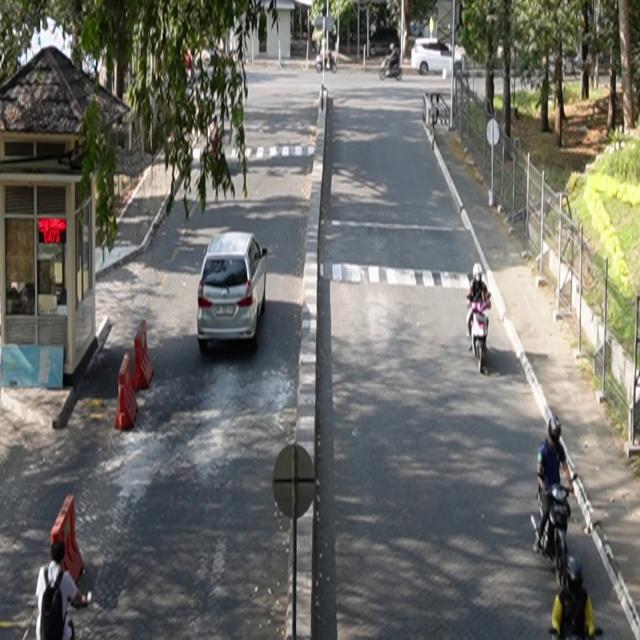car: (197, 231, 269, 354)
